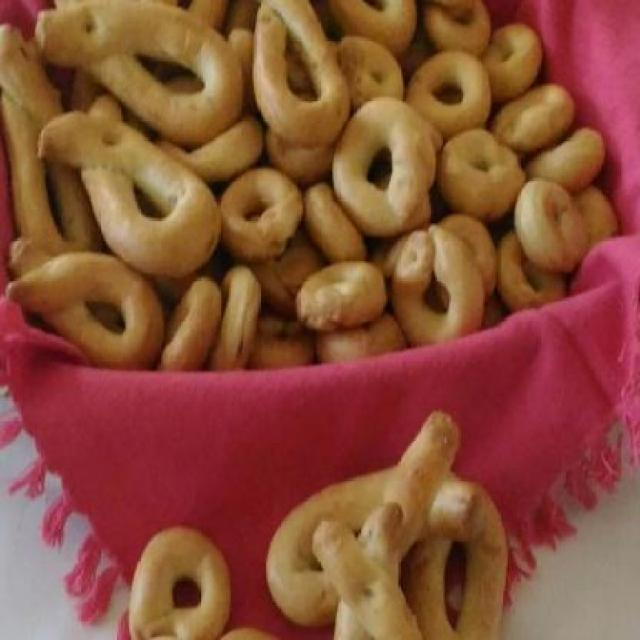Taralli: (1, 11, 640, 374), (99, 408, 515, 640)
